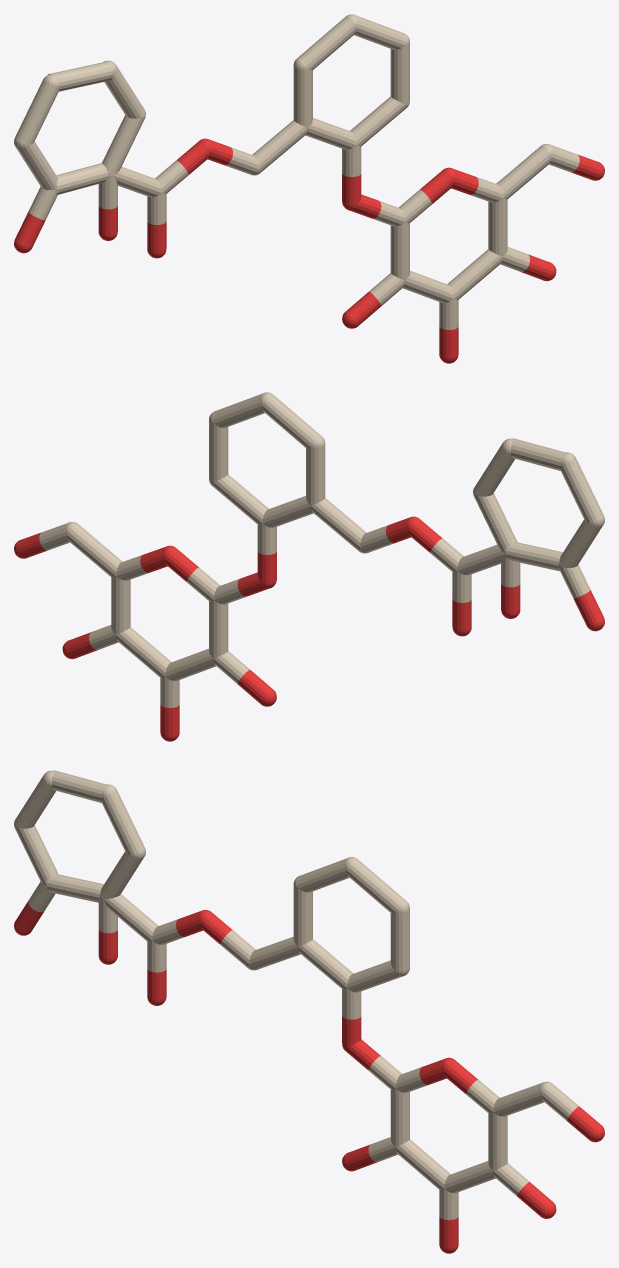
Rendered from salicortin.fbx.
The picture shows the model from 3 angles, top to bottom: view 1: azimuth 30°, elevation 25°; view 2: azimuth 150°, elevation 25°; view 3: azimuth 330°, elevation 25°; orthographic projection.
Parts seen in each view (by area): view 1: Shape_Cylinder.037, Shape_Cylinder.040, Shape_Cylinder.005, Shape_Cylinder.033, Shape_Cylinder.021, Shape_Cylinder.008, Shape_Cylinder.020, Shape_Cylinder.038, Shape_Cylinder.022, Shape_Cylinder.042, Shape_Cylinder.004, Shape_Cylinder.014 (+32 smaller); view 2: Shape_Cylinder.037, Shape_Cylinder.040, Shape_Cylinder.005, Shape_Cylinder.021, Shape_Cylinder.008, Shape_Cylinder.020, Shape_Cylinder.033, Shape_Cylinder.022, Shape_Cylinder.042, Shape_Cylinder.038, Shape_Cylinder.032, Shape_Cylinder.004 (+32 smaller); view 3: Shape_Cylinder.039, Shape_Cylinder.041, Shape_Cylinder.042, Shape_Cylinder.036, Shape_Cylinder.011, Shape_Cylinder.019, Shape_Cylinder.029, Shape_Cylinder.038, Shape_Cylinder.022, Shape_Cylinder.032, Shape_Cylinder.004, Shape_Cylinder.014 (+9 smaller).
Boxes of the visible parts, bbox=[...] form: Shape_Cylinder.037: bbox=[15, 81, 59, 145]; Shape_Cylinder.040: bbox=[298, 17, 356, 70]; Shape_Cylinder.005: bbox=[496, 146, 551, 199]; Shape_Cylinder.033: bbox=[102, 115, 144, 175]; Shape_Cylinder.021: bbox=[252, 120, 307, 172]; Shape_Cylinder.008: bbox=[447, 249, 502, 299]; Shape_Cylinder.020: bbox=[350, 96, 406, 146]; Shape_Cylinder.038: bbox=[48, 62, 113, 91]; Shape_Cylinder.022: bbox=[293, 67, 312, 127]; Shape_Cylinder.042: bbox=[390, 43, 409, 104]; Shape_Cylinder.004: bbox=[488, 198, 507, 256]; Shape_Cylinder.014: bbox=[390, 222, 409, 280]; Shape_Cylinder.037: bbox=[561, 459, 603, 523]; Shape_Cylinder.040: bbox=[262, 395, 320, 448]; Shape_Cylinder.005: bbox=[67, 524, 122, 577]; Shape_Cylinder.021: bbox=[311, 498, 366, 550]; Shape_Cylinder.008: bbox=[116, 627, 171, 677]; Shape_Cylinder.020: bbox=[212, 474, 268, 524]; Shape_Cylinder.033: bbox=[474, 493, 517, 553]; Shape_Cylinder.022: bbox=[306, 445, 325, 505]; Shape_Cylinder.042: bbox=[209, 421, 228, 482]; Shape_Cylinder.038: bbox=[510, 438, 566, 470]; Shape_Cylinder.032: bbox=[505, 542, 562, 571]; Shape_Cylinder.004: bbox=[111, 576, 130, 634]; Shape_Cylinder.039: bbox=[102, 791, 144, 855]; Shape_Cylinder.041: bbox=[347, 859, 405, 912]; Shape_Cylinder.042: bbox=[390, 909, 409, 971]; Shape_Cylinder.036: bbox=[15, 825, 58, 885]; Shape_Cylinder.011: bbox=[395, 1139, 450, 1189]; Shape_Cylinder.019: bbox=[298, 939, 353, 989]; Shape_Cylinder.029: bbox=[103, 894, 158, 941]; Shape_Cylinder.038: bbox=[51, 770, 107, 803]; Shape_Cylinder.022: bbox=[293, 886, 312, 946]; Shape_Cylinder.032: bbox=[46, 874, 103, 902]; Shape_Cylinder.004: bbox=[488, 1112, 507, 1170]; Shape_Cylinder.014: bbox=[390, 1088, 409, 1146].
Bounding box in the file's own units: 1391 × 868 × 46.52.
